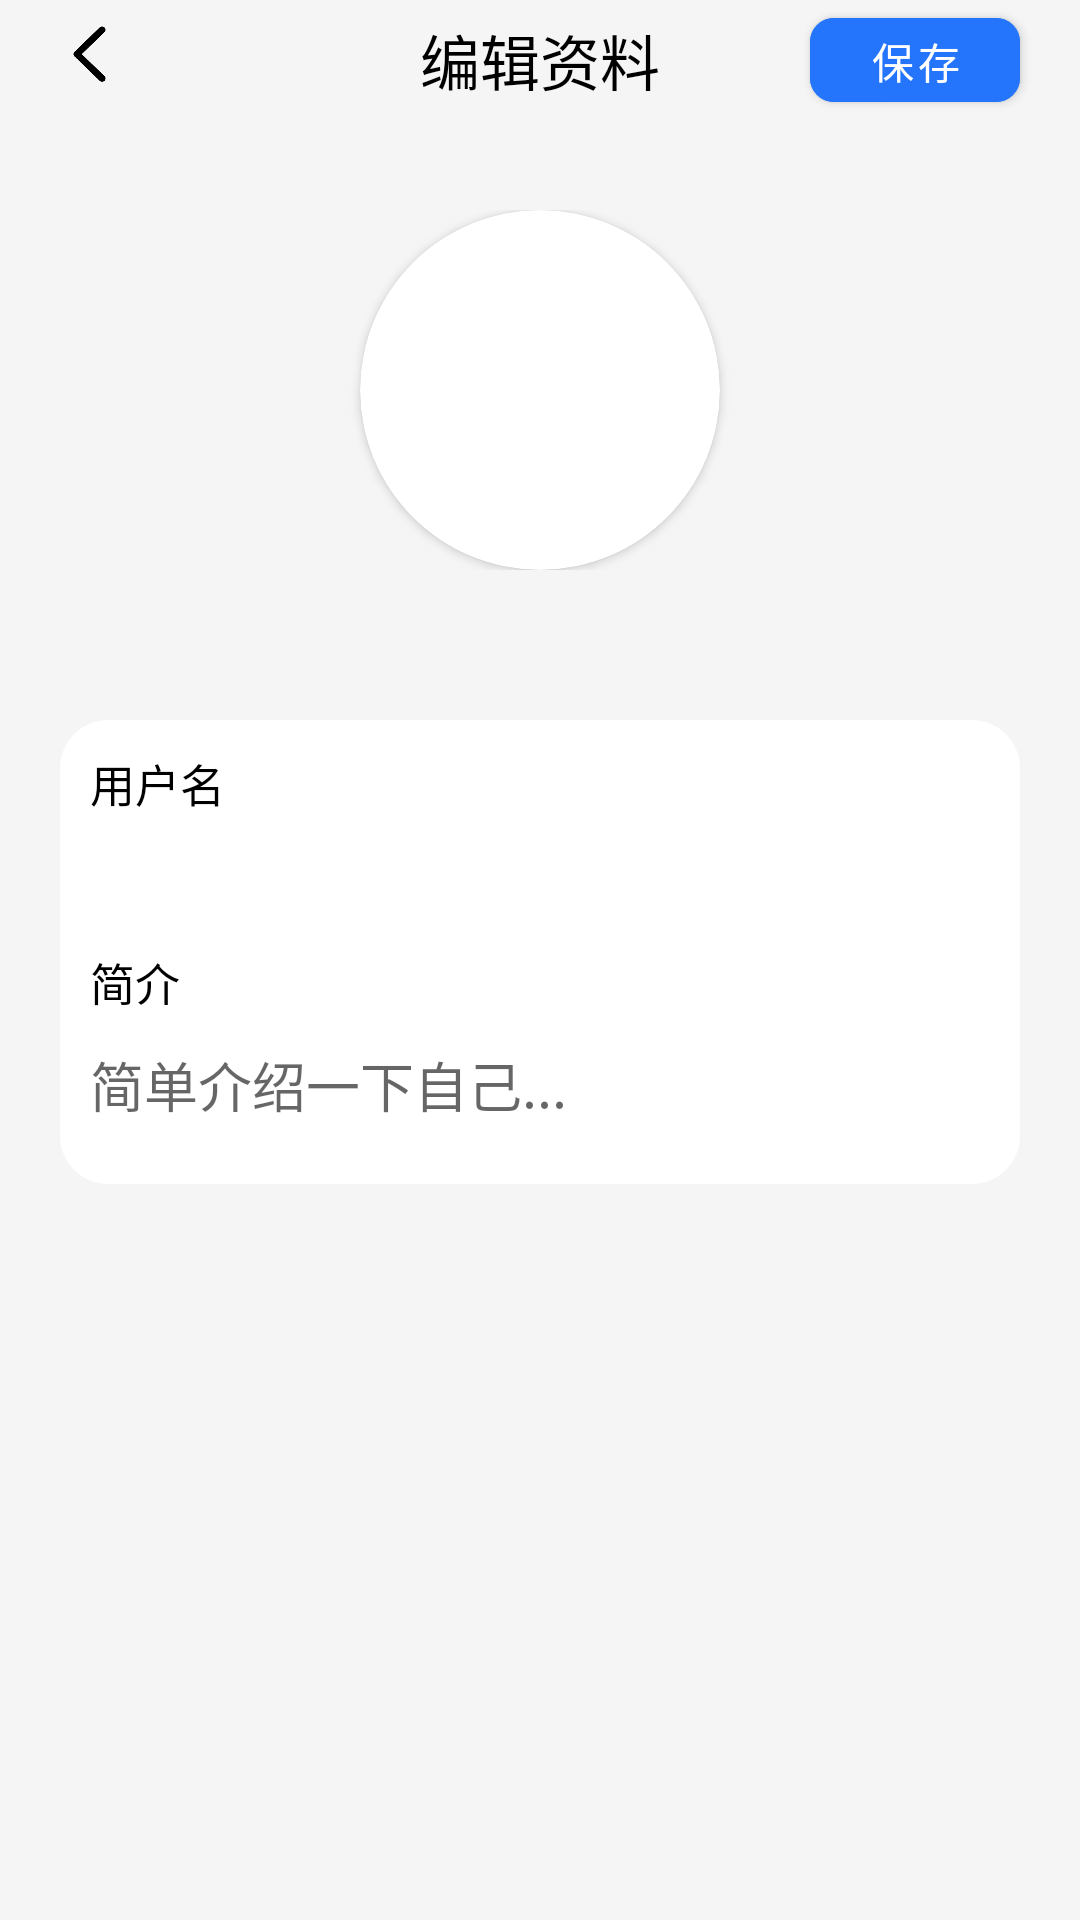

Named icons in this screenshot (1080w x 1920h) and their centers, (x,y):
back: (89,54)
